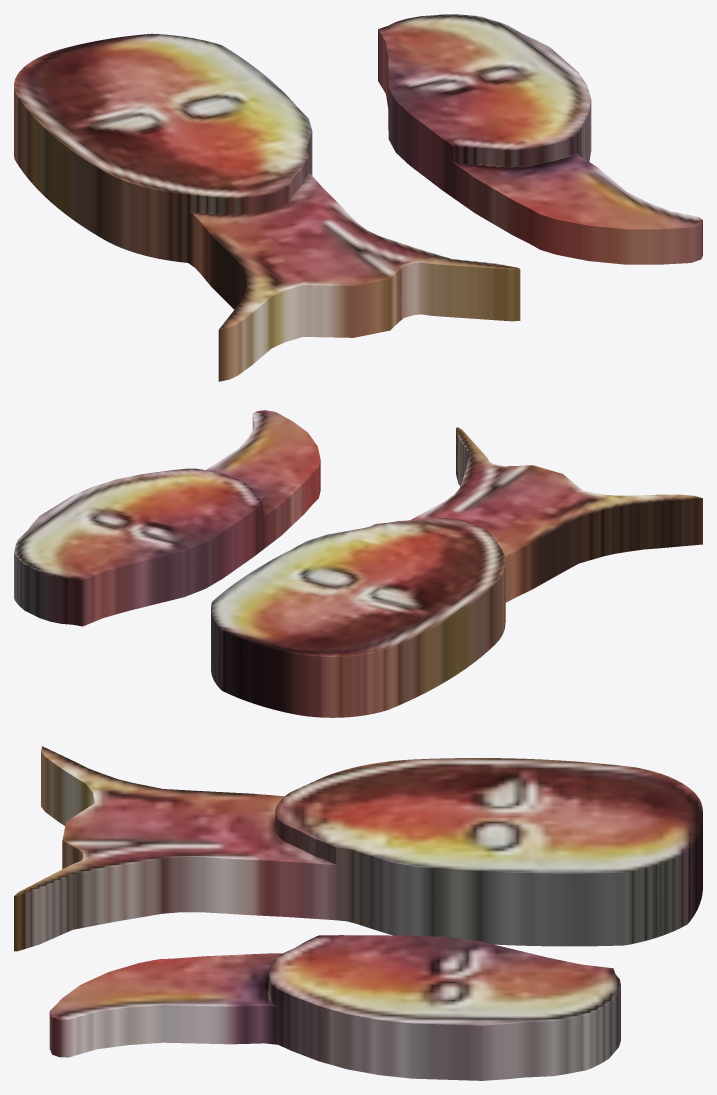
File: por lo nuestro a lo universal 2.dae
3 renders of one model, top to bottom at view 1: azimuth 30°, elevation 25°; view 2: azimuth 150°, elevation 25°; view 3: azimuth 270°, elevation 25°, orthographic. The views are drawn at different scales.
Visible parts, largest first — view 1: SketchUp (×2); view 2: SketchUp (×2); view 3: SketchUp (×2).
Part boxes in pixels (<box>): SketchUp (×2): <box>14,14,702,381</box>; SketchUp (×2): <box>14,410,702,717</box>; SketchUp (×2): <box>14,746,702,1080</box>.
Size of the model in its own units: 14.92 by 15.54 by 1.81.
Materials: 1 (1 with a texture image).
